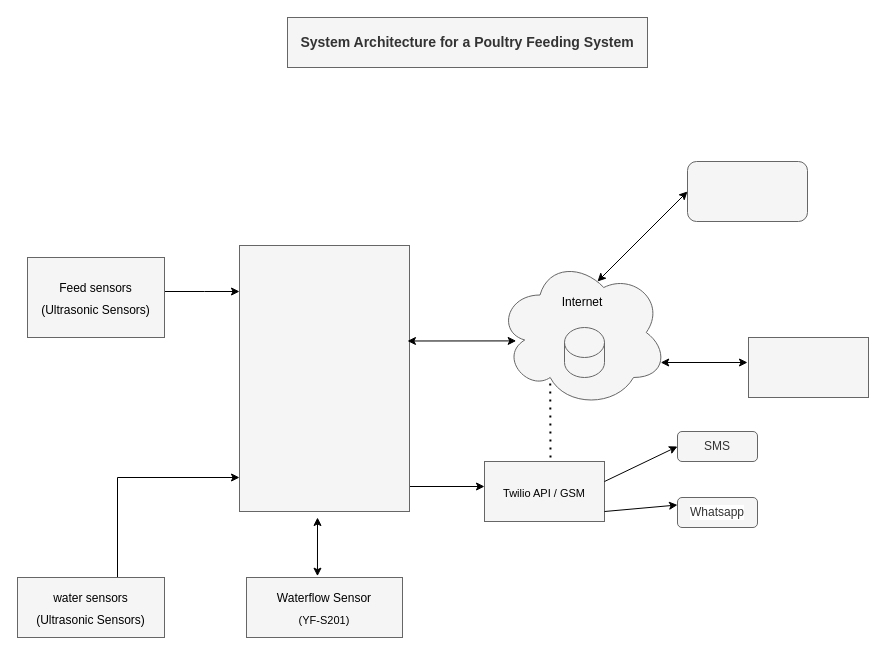
Image size: 886x655. Some labels were removed from this diagram. The shapes that lost their labels are listed below. From the top down, each one's centre as x and y in pixels, then its label:
At point 747,191: "UI Web Dashboard".
At point 584,352: "DB".
At point 808,367: "UI (ussd)".
At point 324,378: "Raspberry PI".
